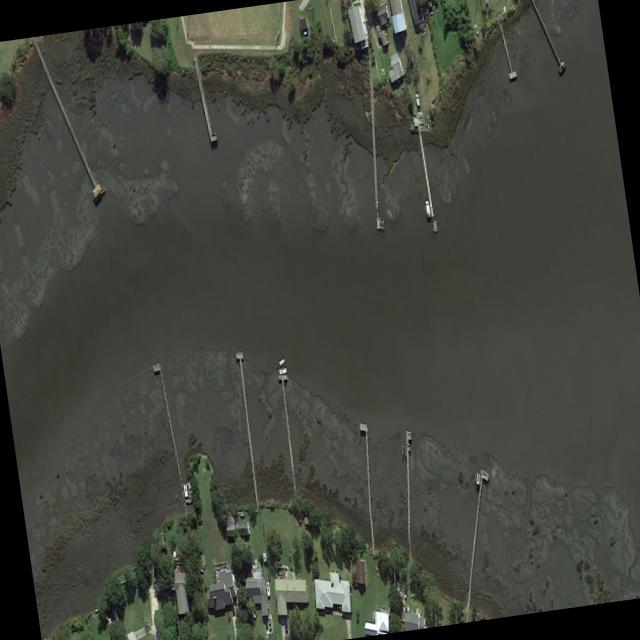ship: (187, 479, 195, 494), (425, 200, 431, 217), (473, 22, 479, 36), (266, 580, 271, 596), (279, 365, 287, 375), (278, 356, 285, 367), (183, 482, 188, 497), (476, 471, 480, 485), (251, 609, 256, 619)
small-vehicle: (415, 93, 420, 107), (268, 616, 272, 629), (284, 619, 288, 631), (265, 619, 268, 629)
